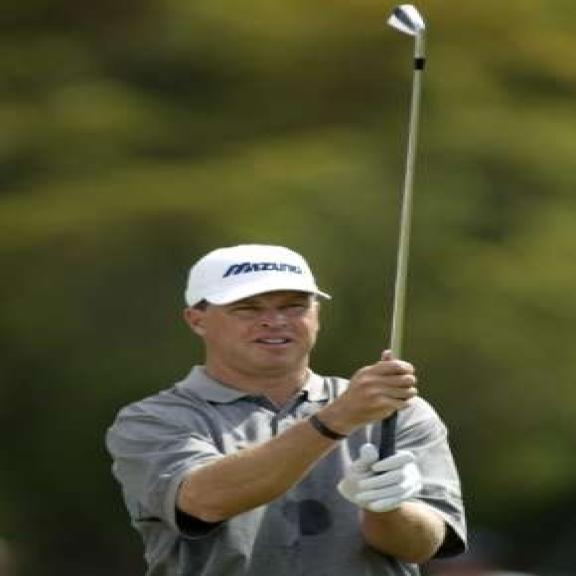face: (188, 288, 326, 371)
